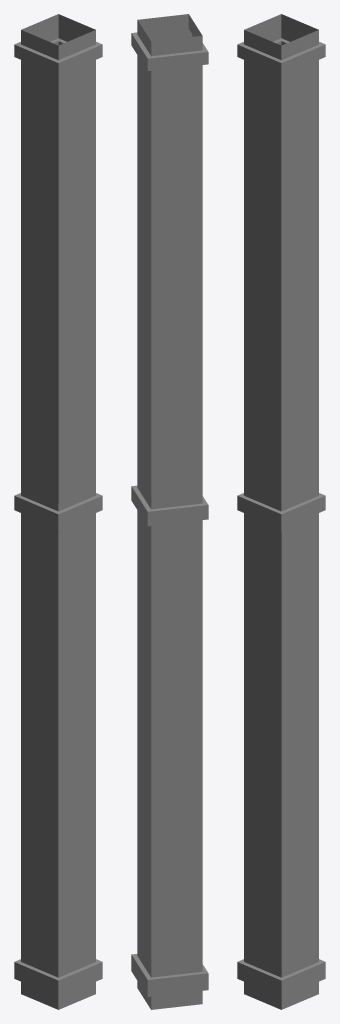
Rendered from pipe_A_straight.FBX.
The picture shows the model from 3 angles, left to right: view 1: azimuth 90°, elevation 25°; view 2: azimuth 150°, elevation 25°; view 3: azimuth 270°, elevation 25°; orthographic projection.
Parts seen in each view (by area): view 1: pipe_A_straight; view 2: pipe_A_straight; view 3: pipe_A_straight.
Boxes of the visible parts, x1,y1,x2,y2 form: pipe_A_straight: (14, 14, 102, 1009); pipe_A_straight: (131, 14, 208, 1009); pipe_A_straight: (237, 14, 325, 1009).
Size of the model in its own units: 12.1 by 145 by 12.1.
